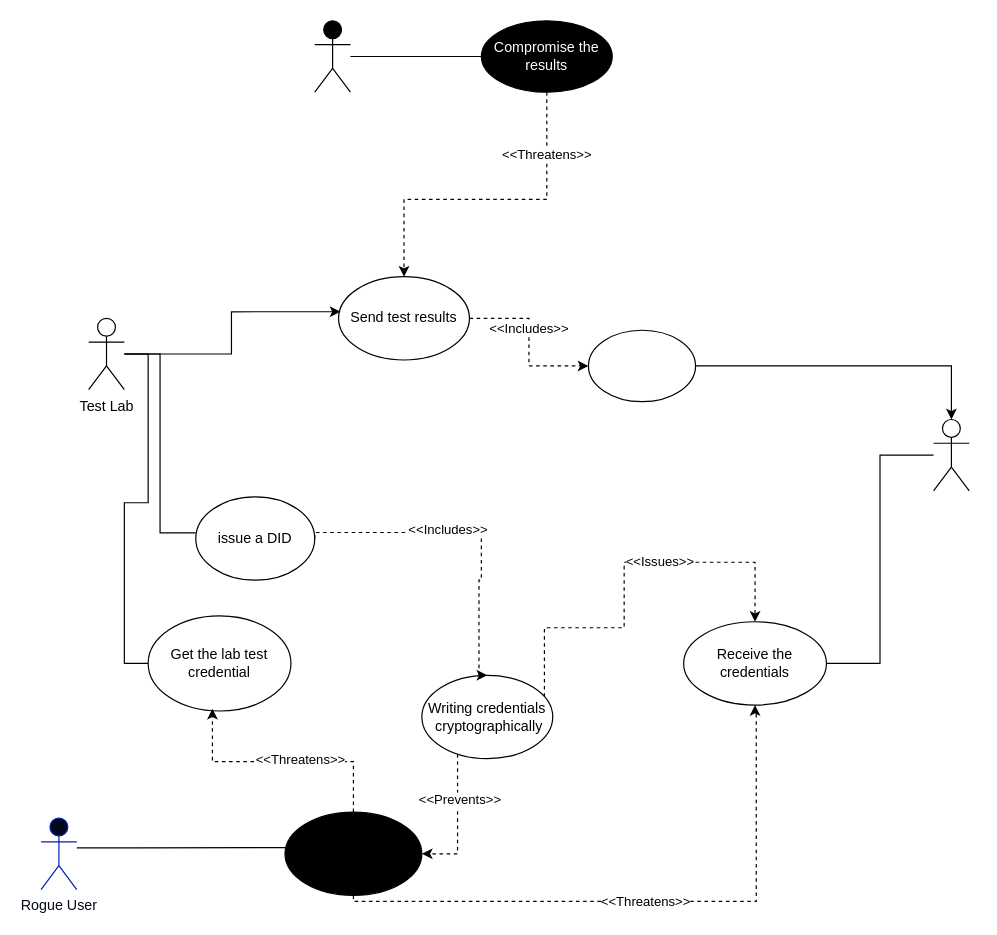
Some shapes in this 997 by 935 pixel diagram are drawn without their labels. The shapes that lost their labels are listed below. From the top down, each one's centre as x and y in pixels, then its label:
the point at 332,56: Hacker
the point at 641,365: Receives test results
the point at 950,454: Traveler
the point at 353,853: Hacks the credentials
